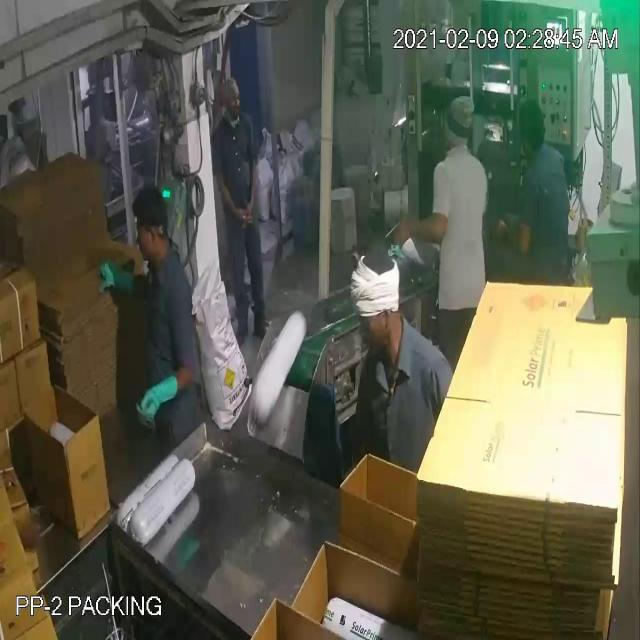Gloves: (26, 40, 518, 398)
